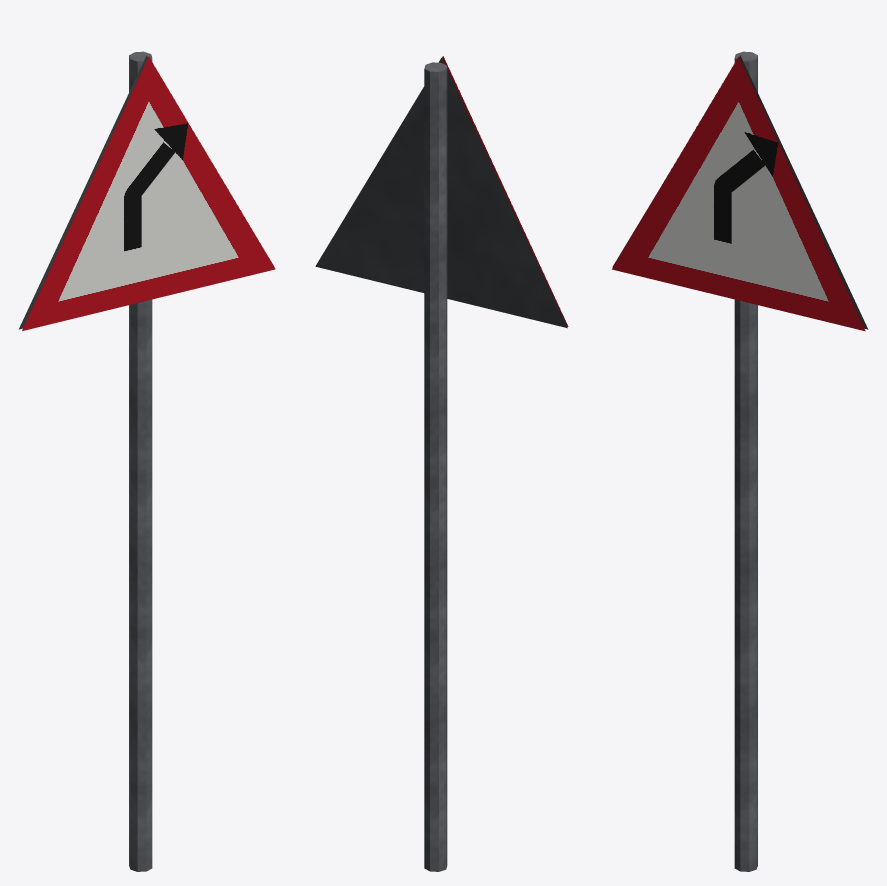
File: de_curve_right.glb
The picture shows the model from 3 angles, left to right: view 1: azimuth 30°, elevation 25°; view 2: azimuth 150°, elevation 25°; view 3: azimuth 330°, elevation 25°; orthographic projection.
Visible parts, largest first — view 1: de_curve_right; view 2: de_curve_right; view 3: de_curve_right.
Part boxes in pixels (x1,y1,x2,y2): de_curve_right: [18, 51, 275, 871]; de_curve_right: [315, 56, 568, 871]; de_curve_right: [612, 51, 868, 871].
Size of the model in its own units: 0.9 by 2.65 by 0.08.
Materials: 3 (3 with a texture image).
